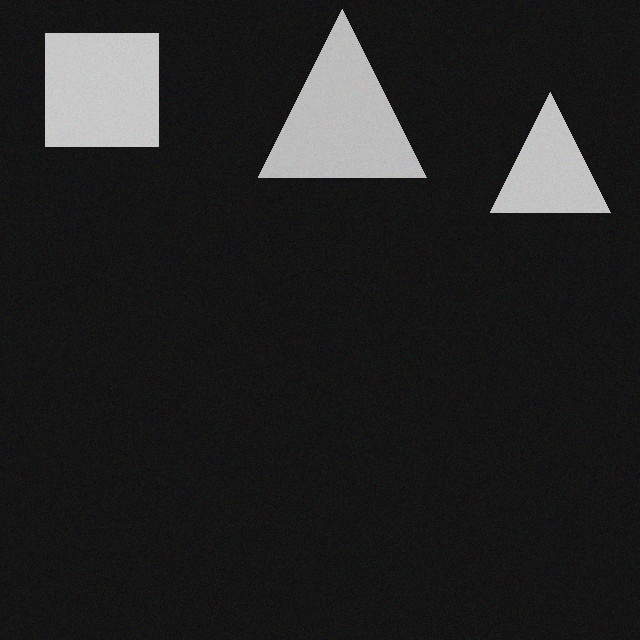square: (45, 41, 158, 154)
triangle: (258, 17, 426, 185), (490, 100, 610, 220)
